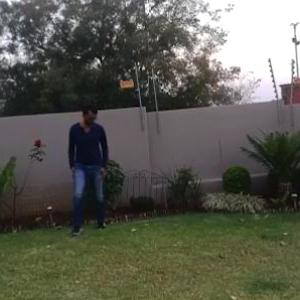follow: (59, 95, 106, 241)
